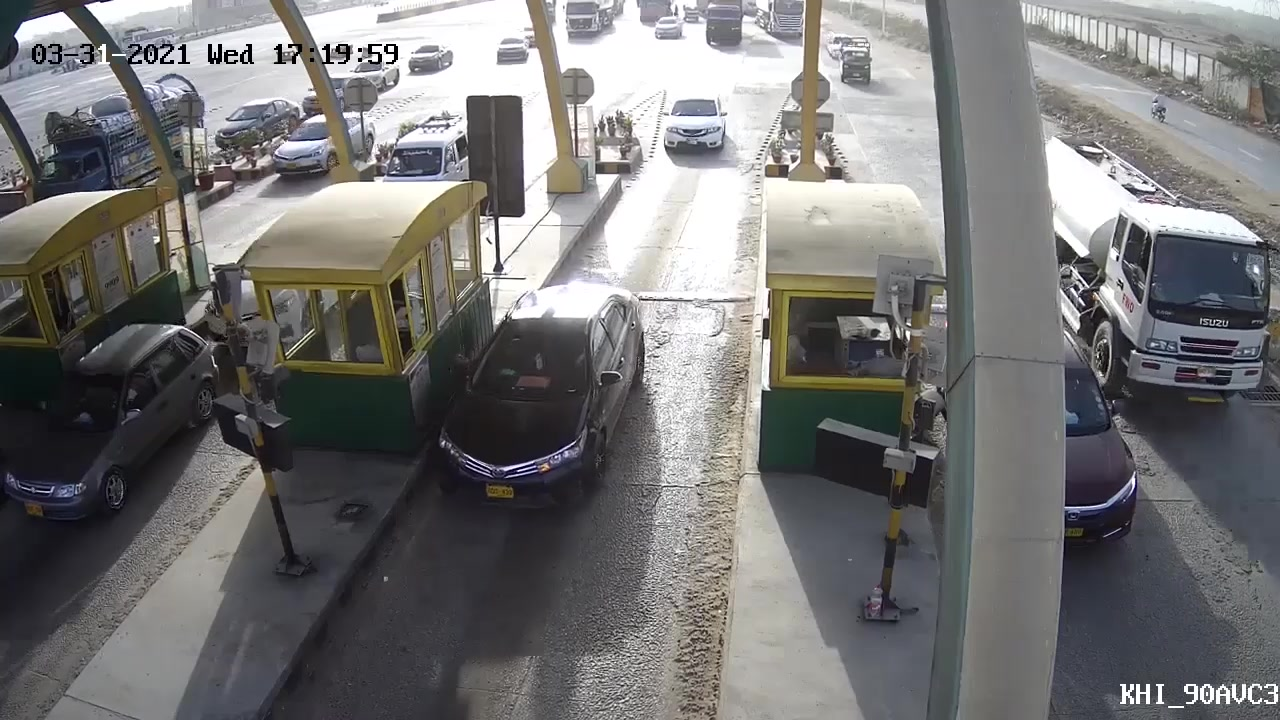F1: (431, 265, 653, 522)
